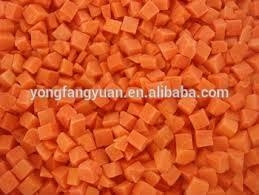Organic: (2, 3, 259, 195)
